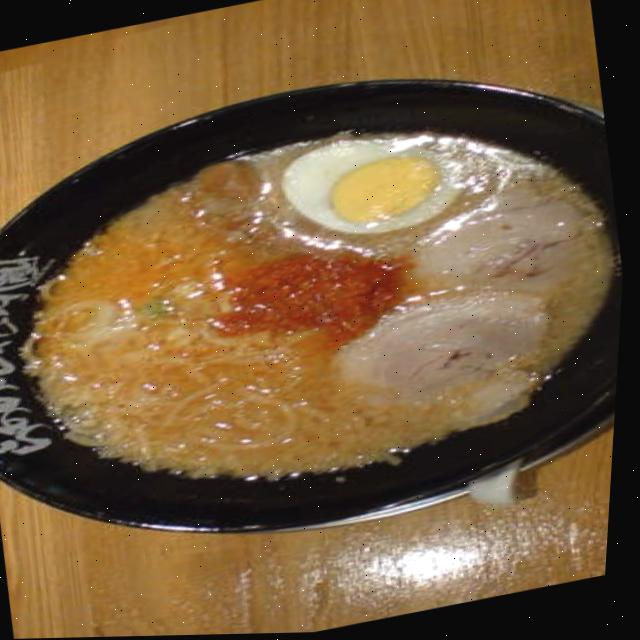面条主食: (0, 37, 638, 568)
